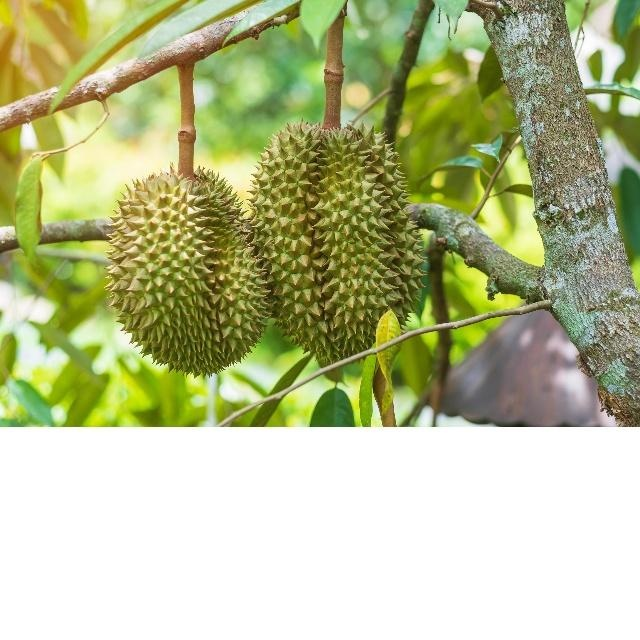sau_rieng: (253, 122, 424, 367), (109, 168, 269, 378)
